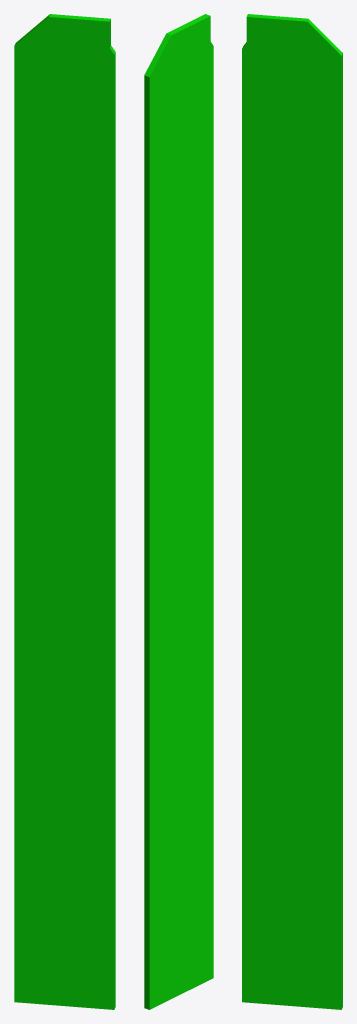
3 renders of one model, left to right at view 1: azimuth 90°, elevation 25°; view 2: azimuth 150°, elevation 25°; view 3: azimuth 270°, elevation 25°, orthographic. The views are drawn at different scales.
Parts seen in each view (by area): view 1: Cube.016; view 2: Cube.016; view 3: Cube.016.
Part boxes in pixels (left/top/right/bottom): Cube.016: left=14, top=14, right=115, bottom=1009; Cube.016: left=144, top=14, right=213, bottom=1009; Cube.016: left=242, top=14, right=342, bottom=1009.
Bounding box in the file's own units: 296 × 12694 × 1178.
